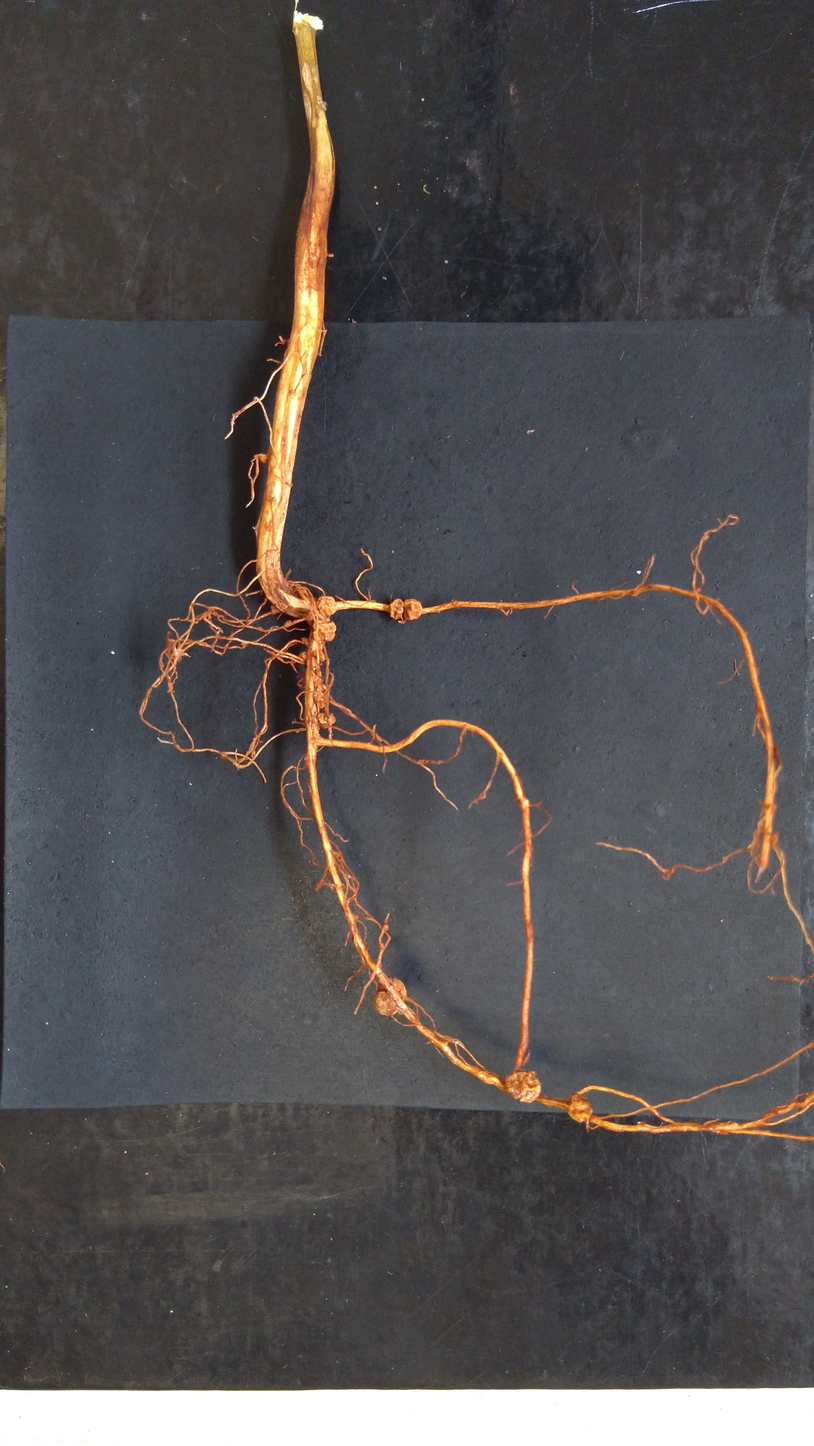nodule: (370, 973, 410, 1018), (503, 1069, 543, 1105), (565, 1090, 594, 1125), (402, 596, 423, 625), (315, 594, 340, 616), (385, 596, 405, 622), (318, 618, 338, 644), (312, 684, 326, 703), (311, 648, 327, 663), (326, 711, 337, 726), (318, 711, 327, 725), (297, 650, 308, 661), (257, 453, 267, 464), (284, 619, 293, 630), (301, 637, 308, 644)
